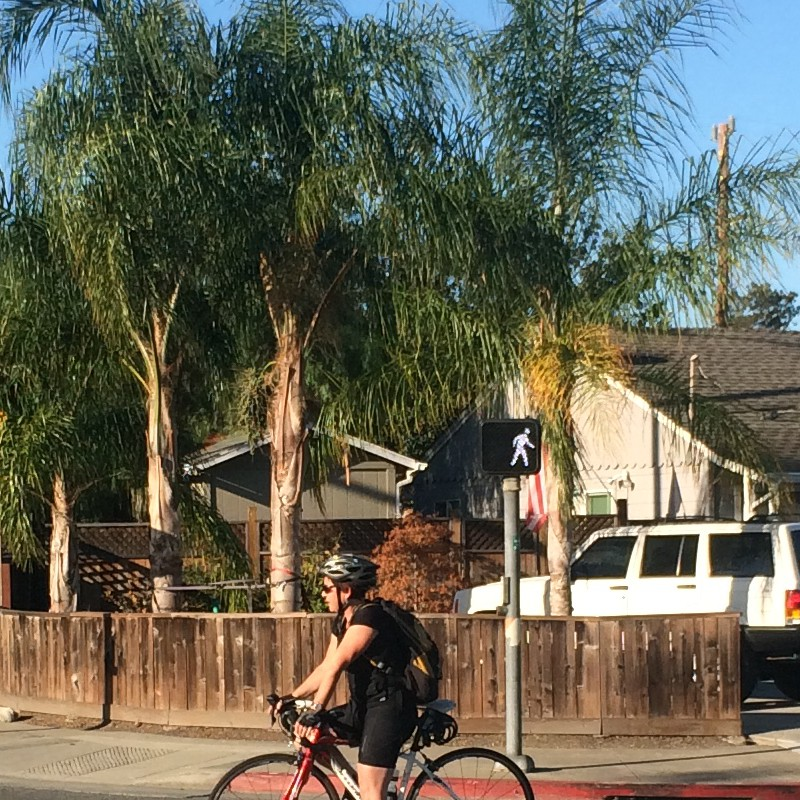go: (477, 418, 544, 476)
